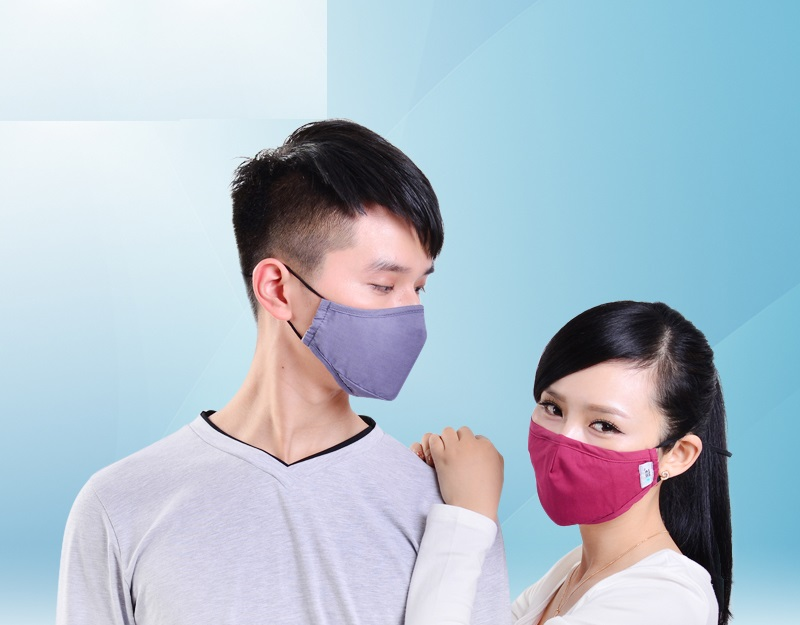face_mask: (291, 199, 433, 394), (526, 358, 667, 515)
